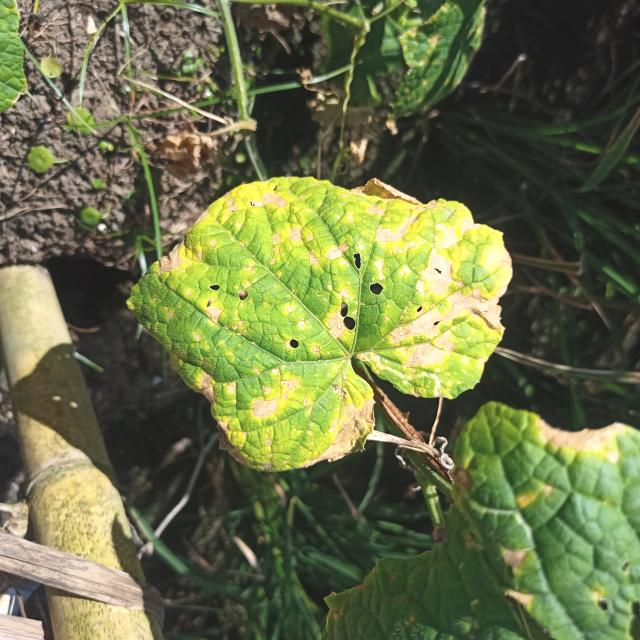disease_cucumber: (139, 180, 506, 469)
